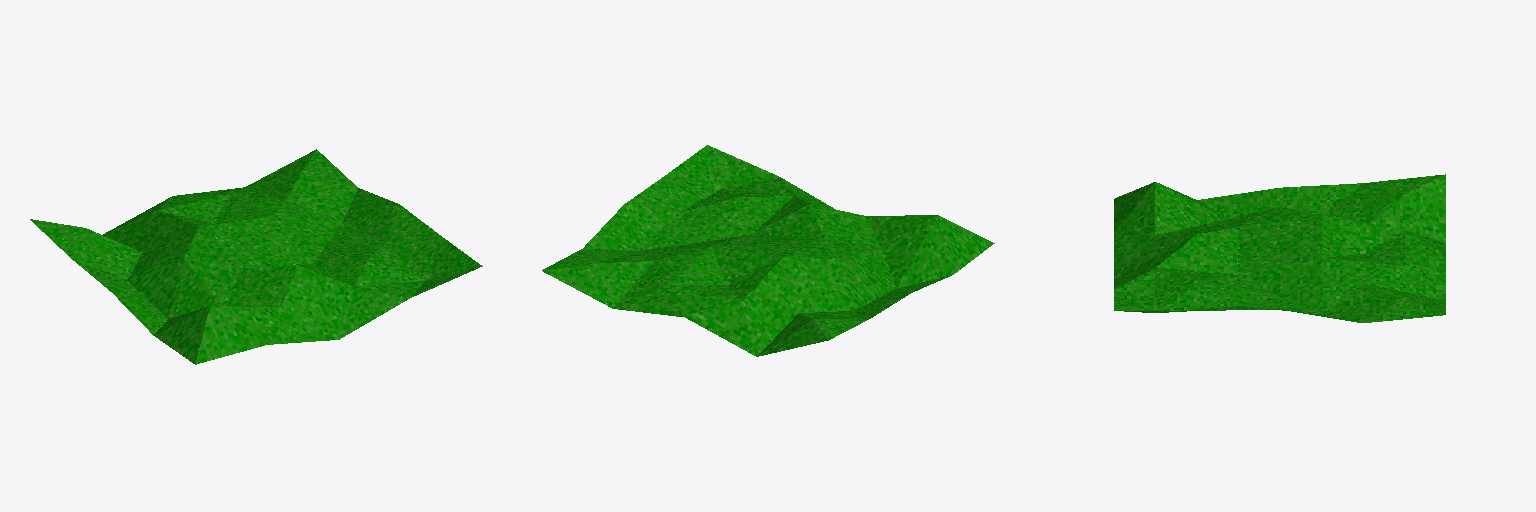
3 renders of one model, left to right at view 1: azimuth 30°, elevation 25°; view 2: azimuth 150°, elevation 25°; view 3: azimuth 270°, elevation 25°, orthographic.
Parts seen in each view (by area): view 1: Plane; view 2: Plane; view 3: Plane.
Boxes of the visible parts, box(x1,y1,x2,y2) form: Plane: box(30, 149, 482, 364); Plane: box(542, 145, 994, 356); Plane: box(1114, 174, 1445, 322).
Size of the model in its own units: 79.31 by 12.13 by 79.31.
Materials: 1 (1 with a texture image).